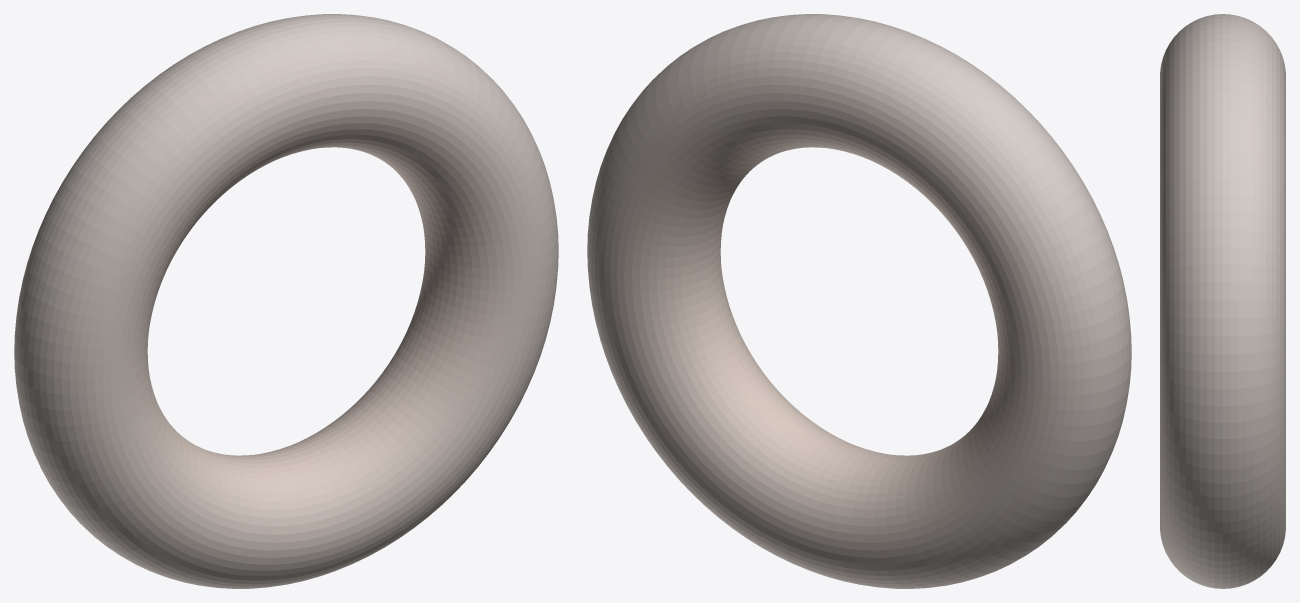
3 views of the same model, side by side, from view 1: azimuth 30°, elevation 25°; view 2: azimuth 150°, elevation 25°; view 3: azimuth 270°, elevation 25° (orthographic). The views are drawn at different scales.
Visible parts, largest first — view 1: world; view 2: world; view 3: world.
Boxes of the visible parts, left/top/right/bottom form: world: left=14, top=14, right=558, bottom=588; world: left=587, top=14, right=1131, bottom=588; world: left=1160, top=14, right=1285, bottom=588.
Bounding box in the file's own units: 27.33 × 27.33 × 5.99.
